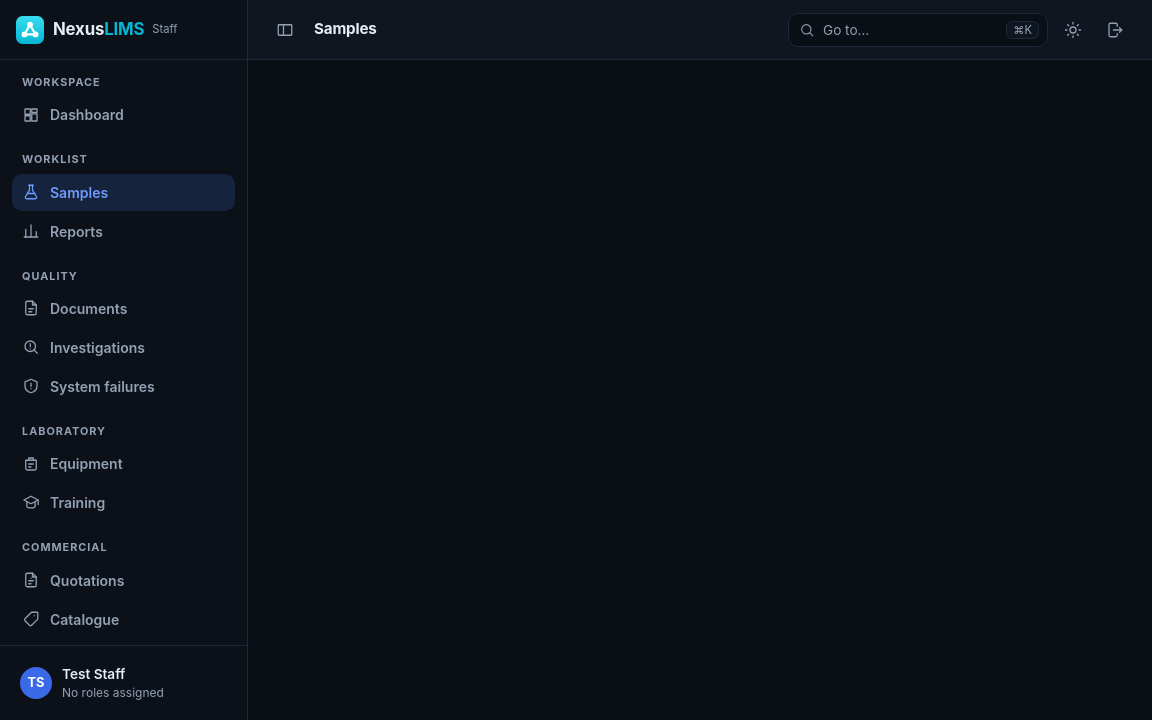
Test: Layout › says so rather than showing an empty list when nothing matches
Expected: the link "Samples" is shown, [12,174,235,211]
Type keys "{Control>}k{/Control}"
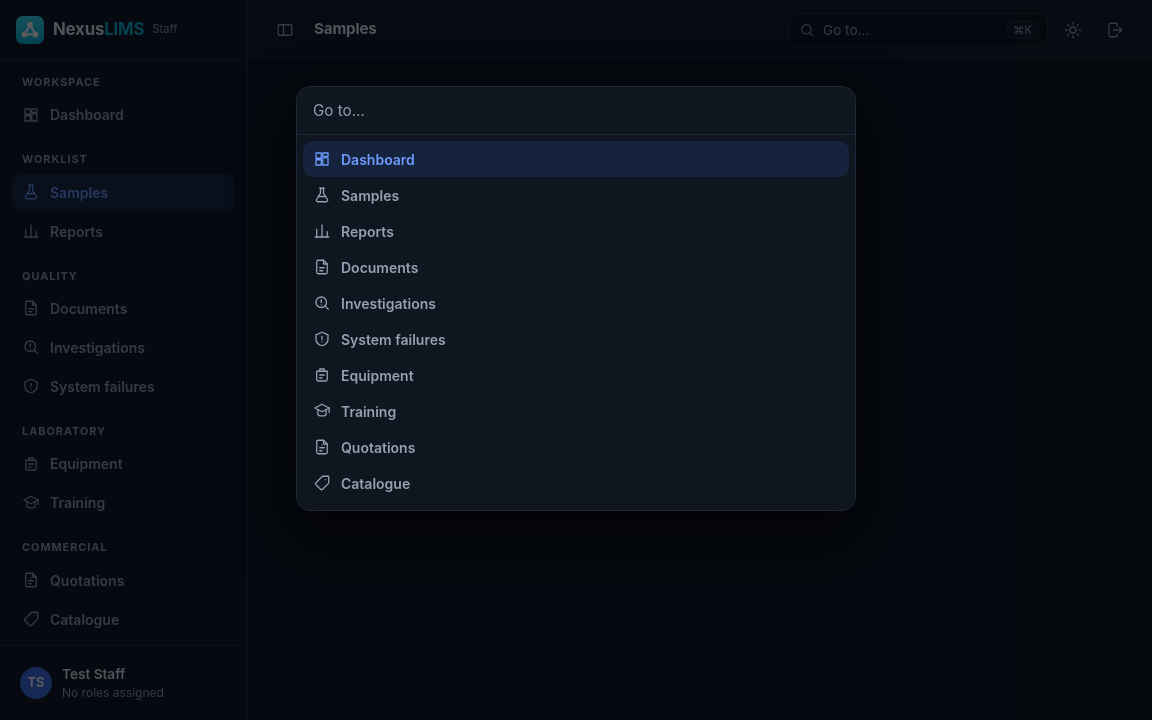
Type "zzzz" into the dropdown labelled "Go to" at (576,111), box [297,87,855,135]
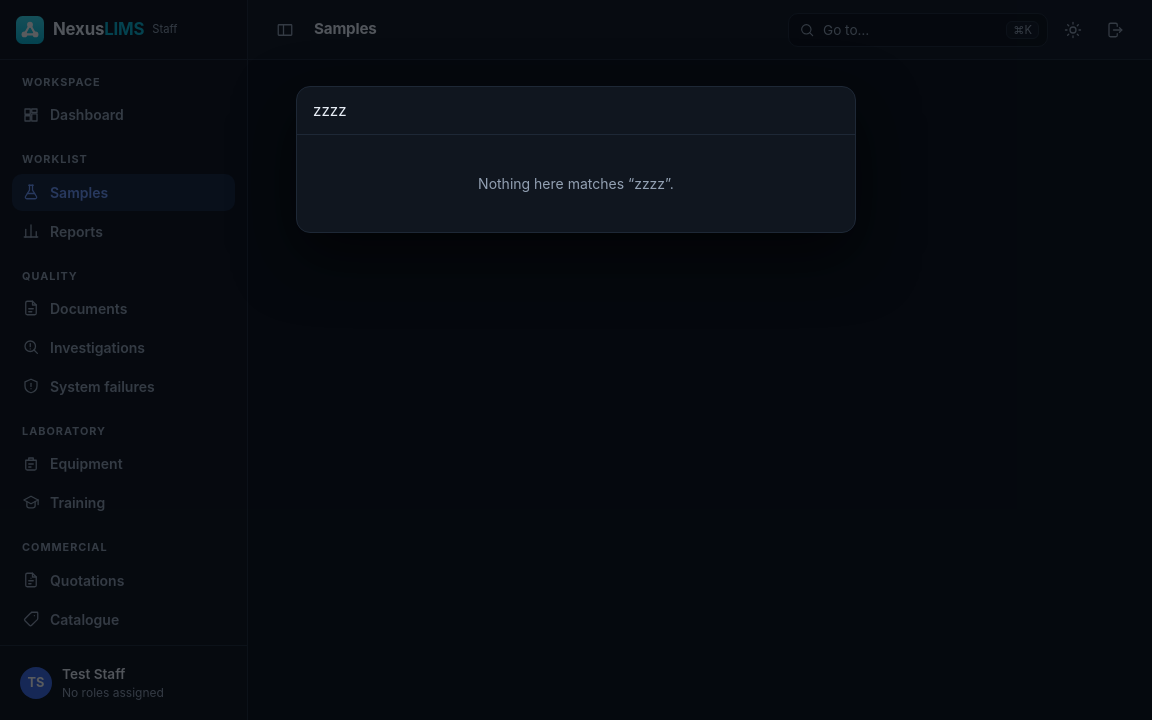
Expected: the text "Nothing here matches “zzzz”." is shown, [478,175,674,192]
